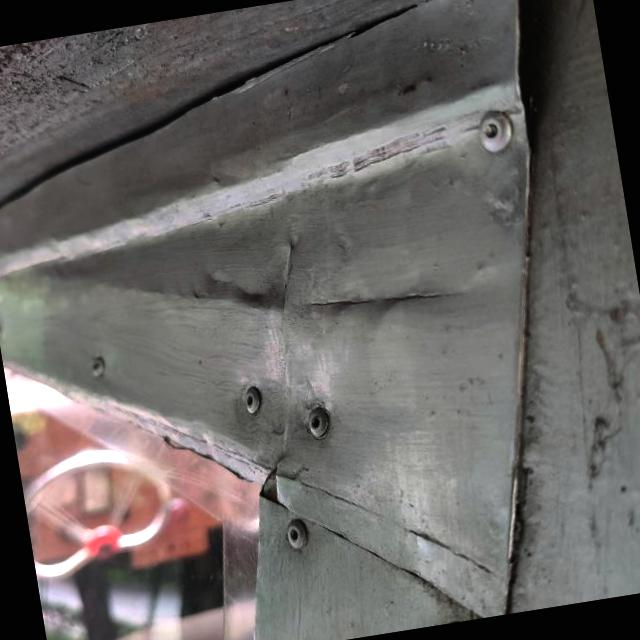scratch: (282, 238, 468, 358)
